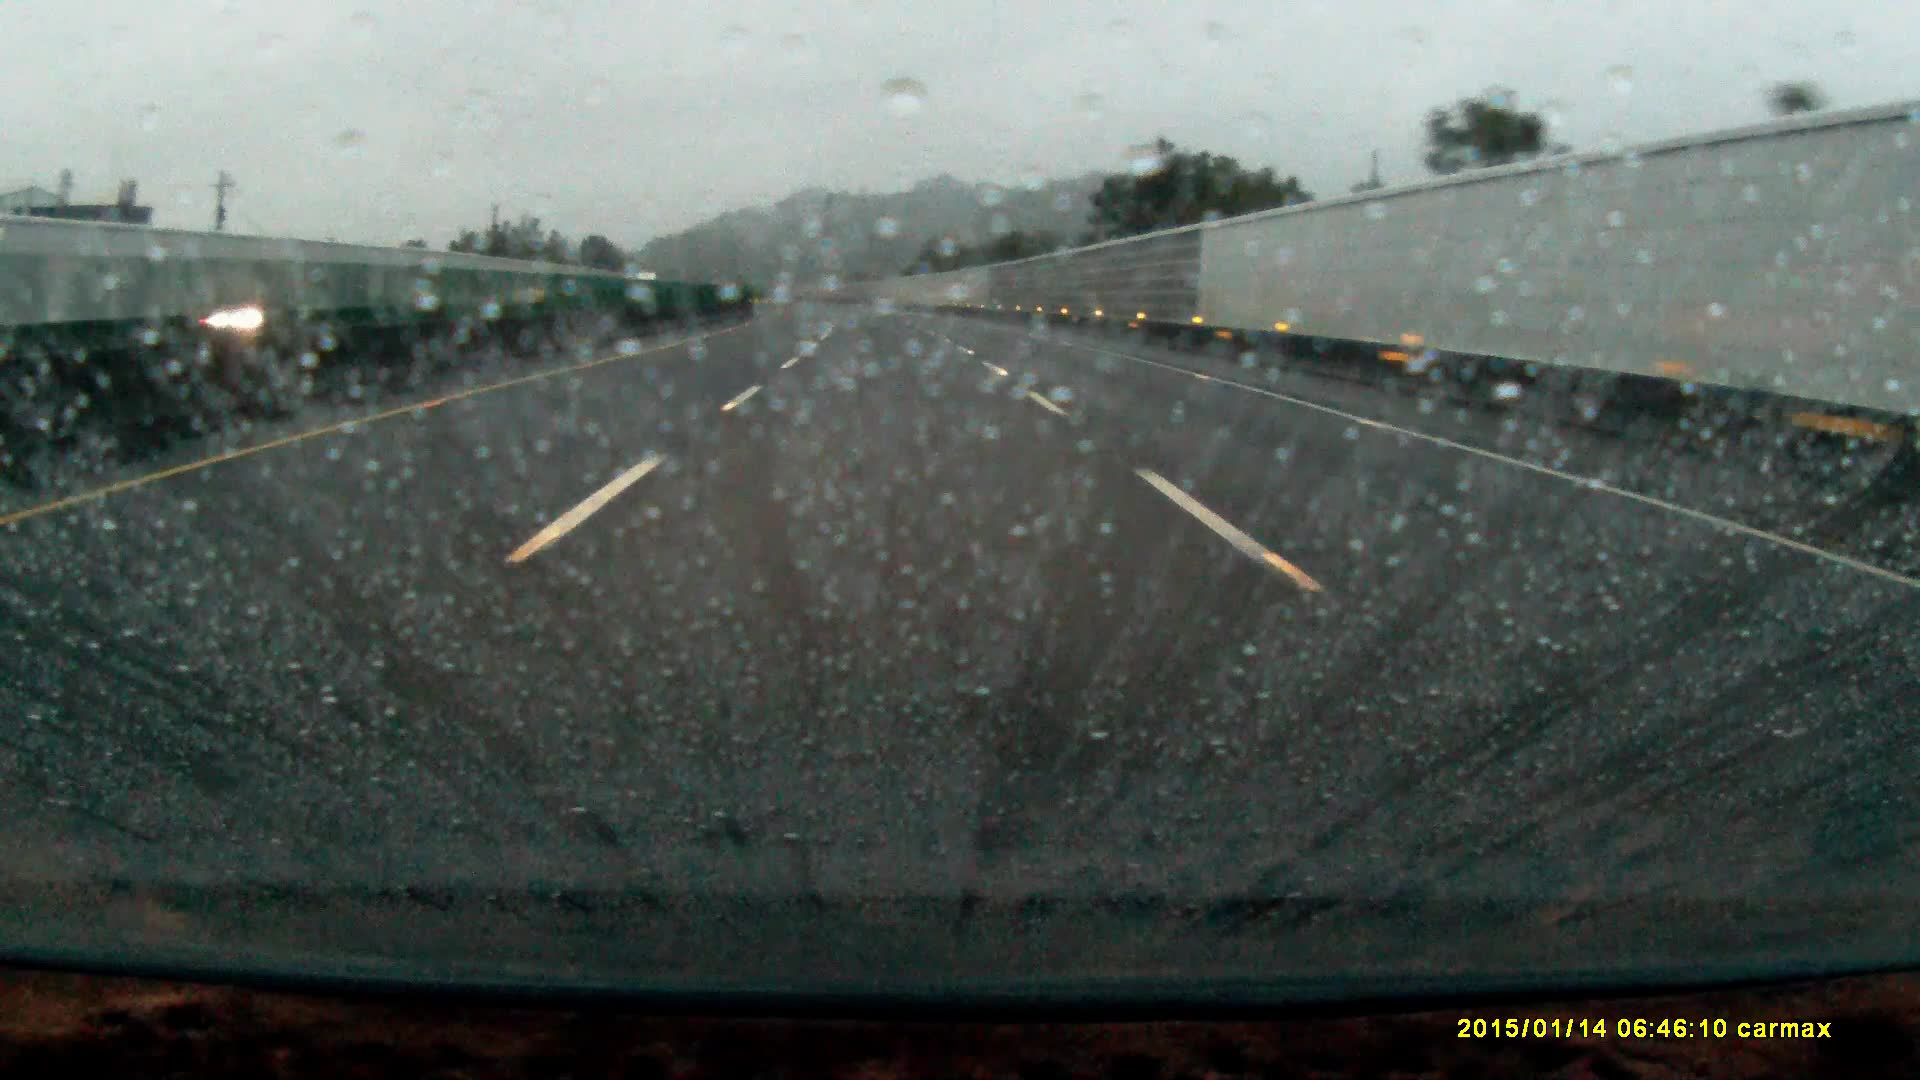vehicle: (202, 293, 277, 334)
